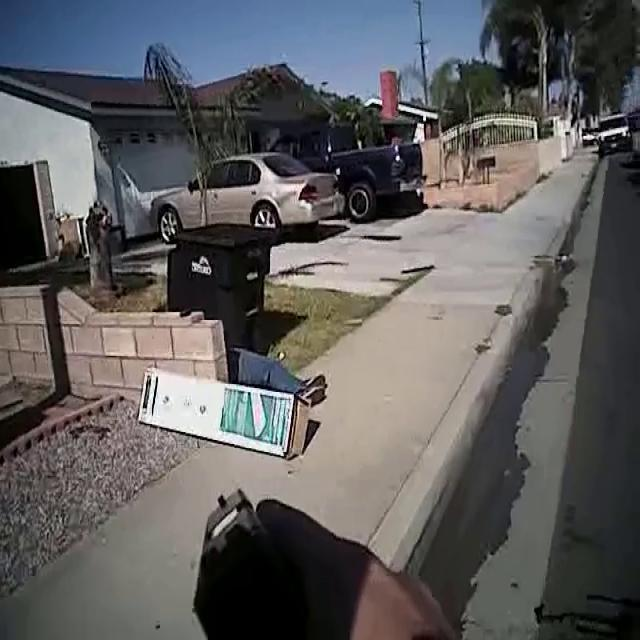gun: (171, 446, 306, 640)
